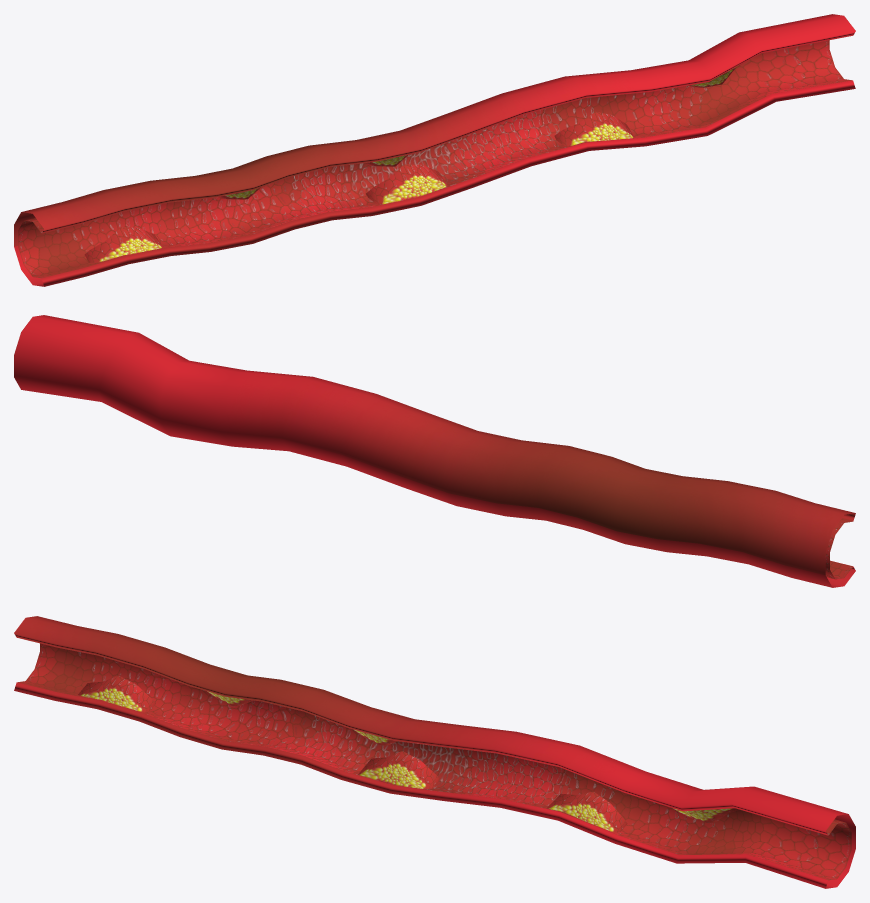
File: Export_Tex_Escenario_002.fbx
3 renders of one model, top to bottom at view 1: azimuth 30°, elevation 25°; view 2: azimuth 150°, elevation 25°; view 3: azimuth 330°, elevation 25°, orthographic.
Parts seen in each view (by area): view 1: pPipe1, pCube4, pCube6, pCube2; view 2: pPipe1; view 3: pPipe1, pCube4, pCube6, pCube2, pCube7.
Part boxes in pixels (<box>): pPipe1: <box>14,14,855,286</box>; pCube4: <box>366,164,447,204</box>; pCube6: <box>554,111,634,146</box>; pCube2: <box>84,227,162,262</box>; pPipe1: <box>14,315,855,587</box>; pPipe1: <box>14,616,855,888</box>; pCube4: <box>358,751,440,788</box>; pCube6: <box>547,791,627,832</box>; pCube2: <box>78,675,155,711</box>; pCube7: <box>673,808,739,823</box>.
Size of the model in its own units: 451 by 46.03 by 29.68.
2 materials, 2 textured.
